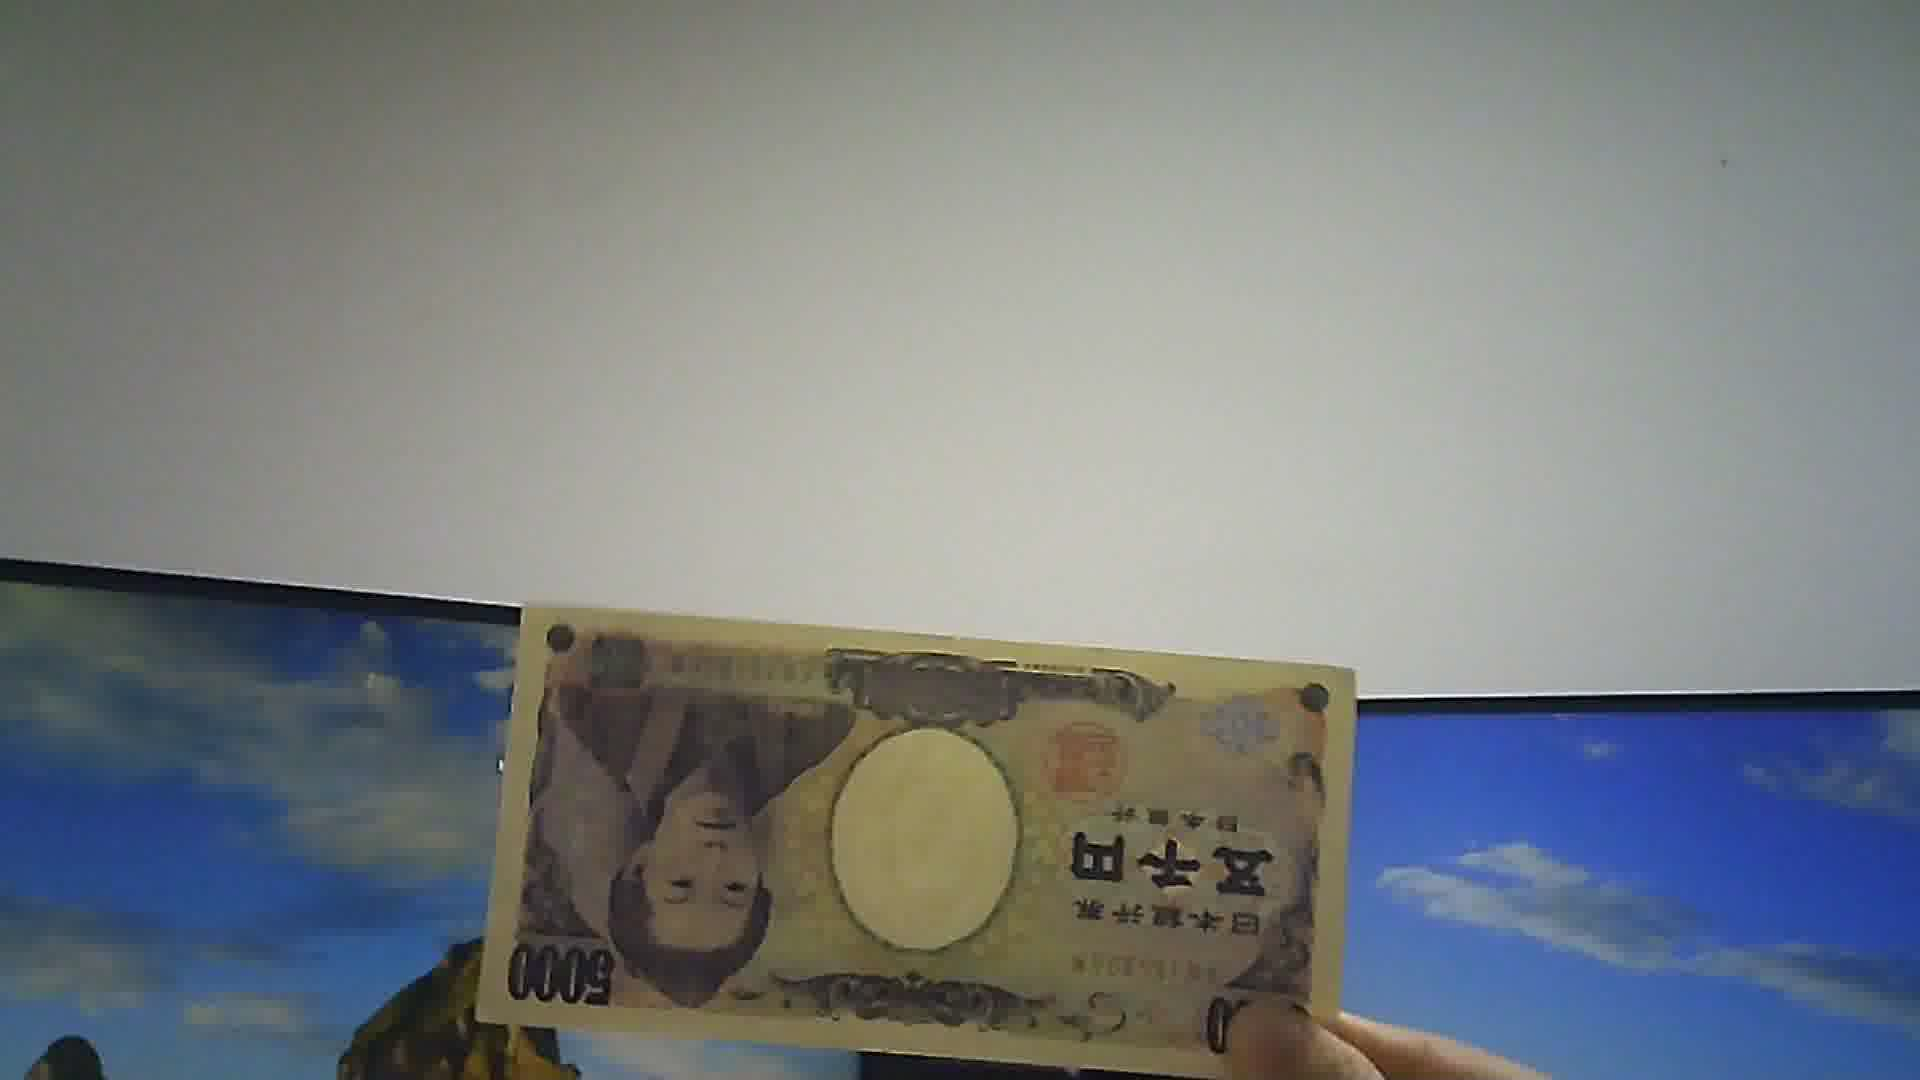5,000 Yen: (473, 596, 1316, 1079)
